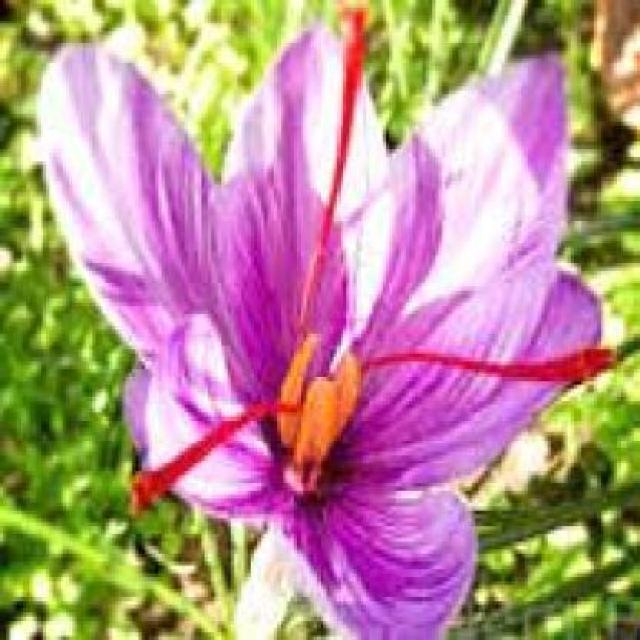saffron open: (40, 28, 609, 640)
